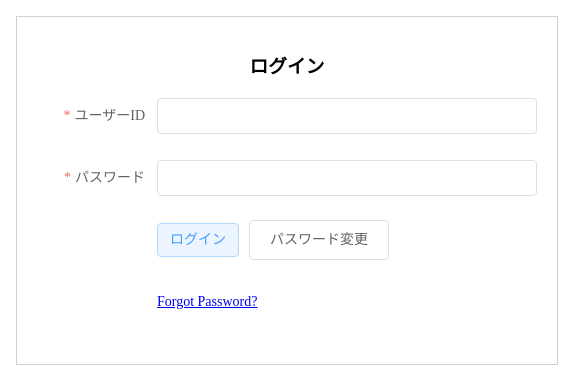
Login画面 › 4. ユーザーIDとパスワードがブランクのまま、ログインすると、警告がでる
Step 1. Click the button "ログイン" → (198, 240), box x1=157 y1=223 x2=239 y2=257
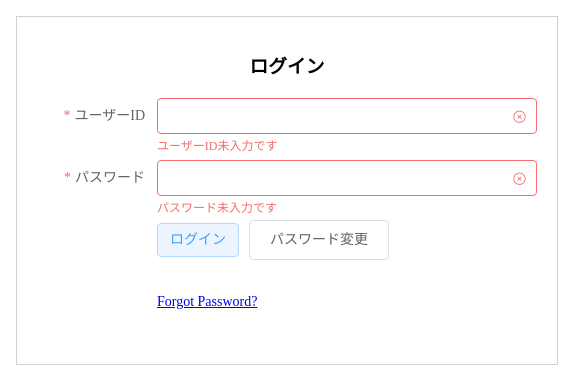
Result: the text "ユーザーID未入力です" is shown at x1=157 y1=136 x2=277 y2=152
Result: the text "パスワード未入力です" is shown at x1=157 y1=198 x2=277 y2=214
